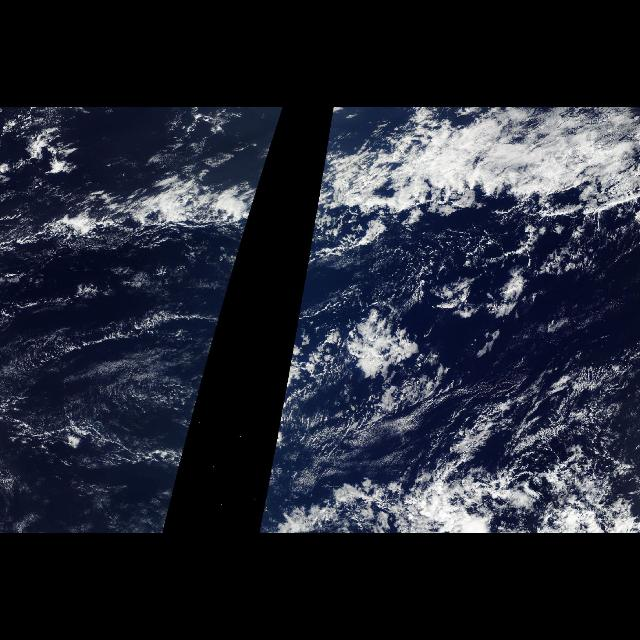Fish: (340, 126, 636, 236), (442, 394, 618, 496)
Gravel: (335, 288, 471, 426)
Sugar: (12, 264, 210, 522)
